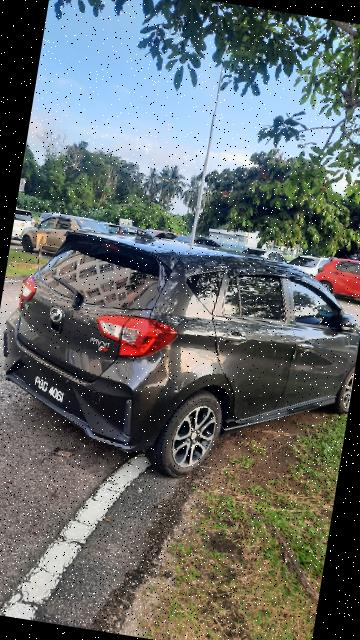License_Plate: (13, 364, 83, 414)
car: (1, 209, 360, 505)
